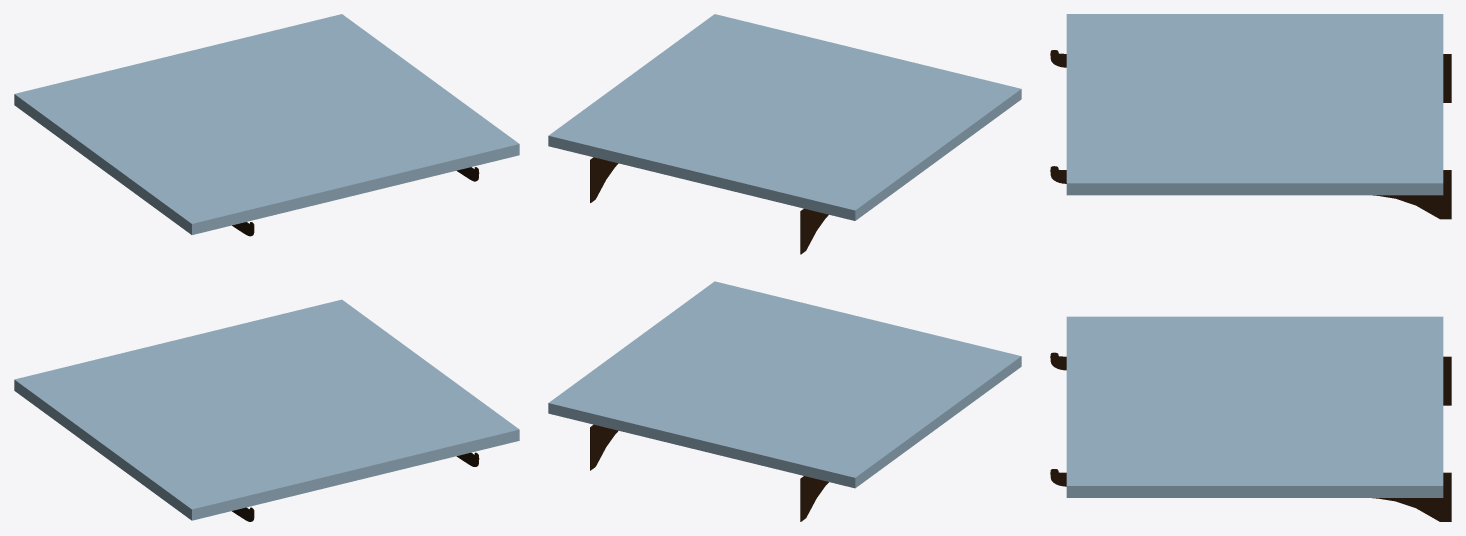
Rendered from sh-contrib-shelving.glb.
3 renders of one model, left to right at view 1: azimuth 30°, elevation 25°; view 2: azimuth 150°, elevation 25°; view 3: azimuth 270°, elevation 25°, orthographic. The views are drawn at different scales.
Parts seen in each view (by area): view 1: Shelving_2, Shelving_10; view 2: Shelving_2, Shelving_10; view 3: Shelving_2, Shelving_10.
Boxes of the visible parts, x1,y1,x2,y2 form: Shelving_2: [14, 14, 519, 520]; Shelving_10: [232, 167, 479, 521]; Shelving_2: [548, 14, 1021, 488]; Shelving_10: [590, 157, 828, 521]; Shelving_2: [1066, 14, 1443, 497]; Shelving_10: [1050, 50, 1451, 521].
Size of the model in its own units: 1 by 1 by 1.
